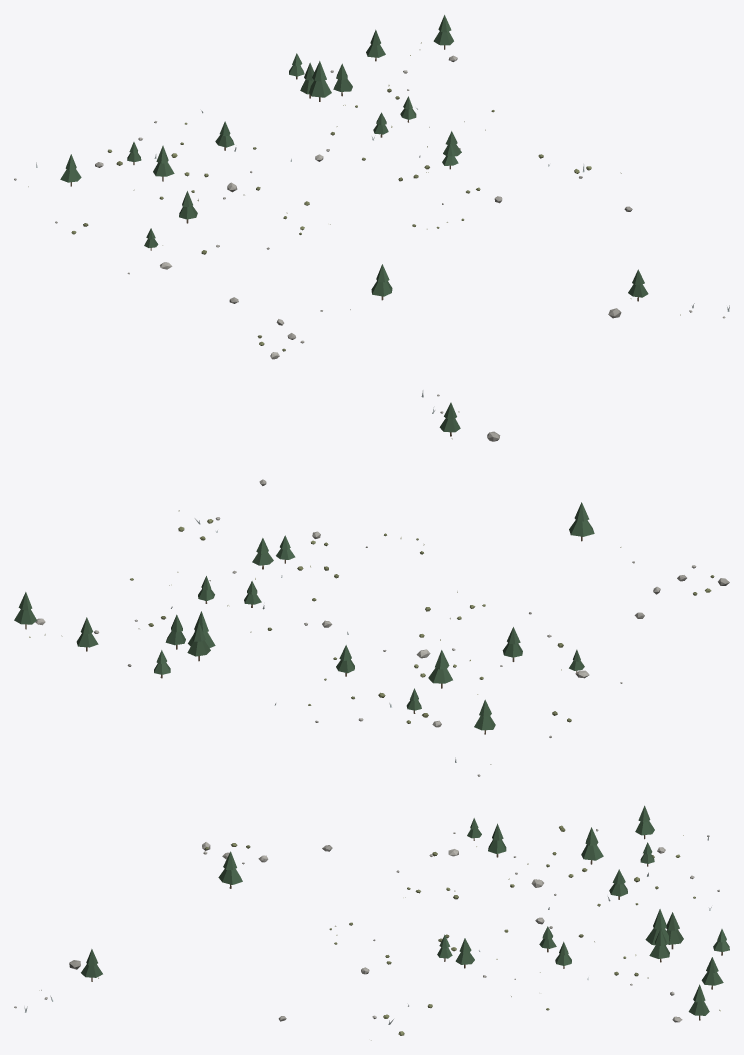
The model's file is coast_land_scatter_c09_17_lod1.glb.
The picture shows the model from 3 angles, top to bottom: view 1: azimuth 30°, elevation 25°; view 2: azimuth 150°, elevation 25°; view 3: azimuth 270°, elevation 25°; orthographic projection. The views are drawn at different scales.
Parts seen in each view (by area): view 1: coast_land_scatter_c09_17_lod1; view 2: coast_land_scatter_c09_17_lod1; view 3: coast_land_scatter_c09_17_lod1.
Part boxes in pixels (x1,y1,x2,y2): coast_land_scatter_c09_17_lod1: (14, 15, 729, 359); coast_land_scatter_c09_17_lod1: (14, 390, 729, 776); coast_land_scatter_c09_17_lod1: (14, 805, 729, 1040).
Bounding box in the file's own units: 192 × 29.24 × 252.
